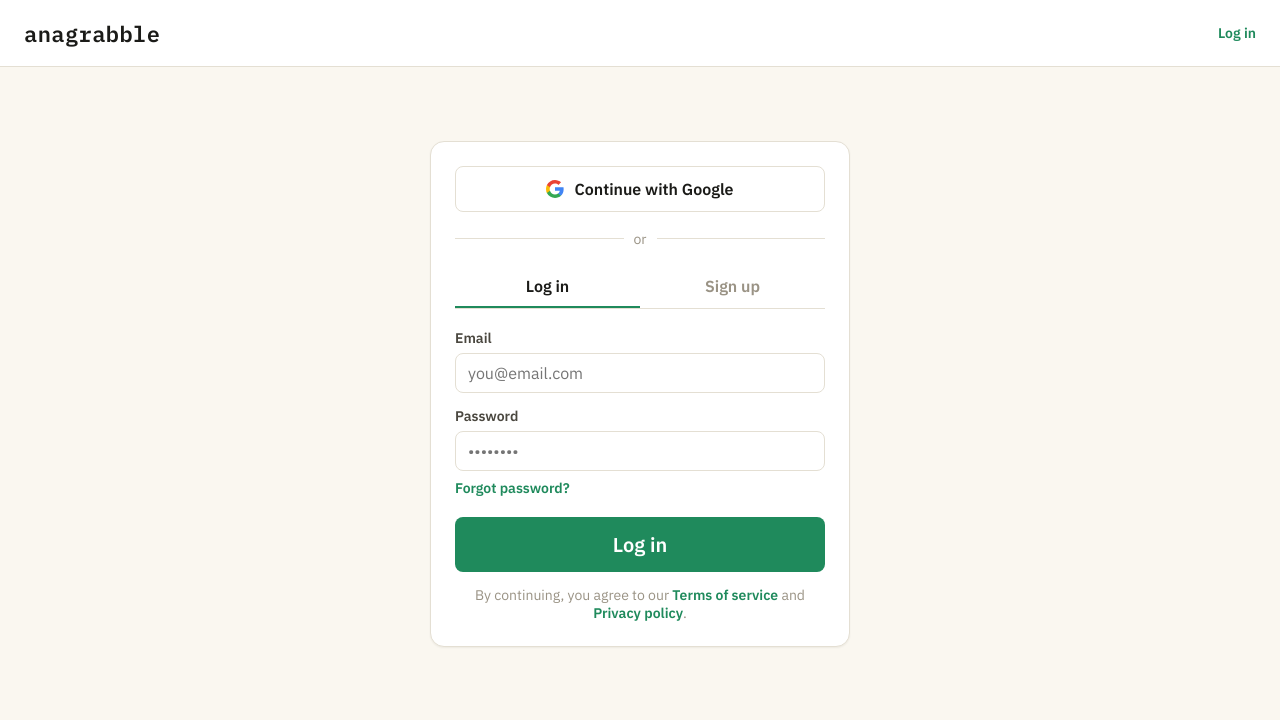
LoginPage › requires email and password before submitting a login, on their own fields
The image size is (1280, 720).
Click the button "Log in": [640, 544] box 455,516 -> 825,572
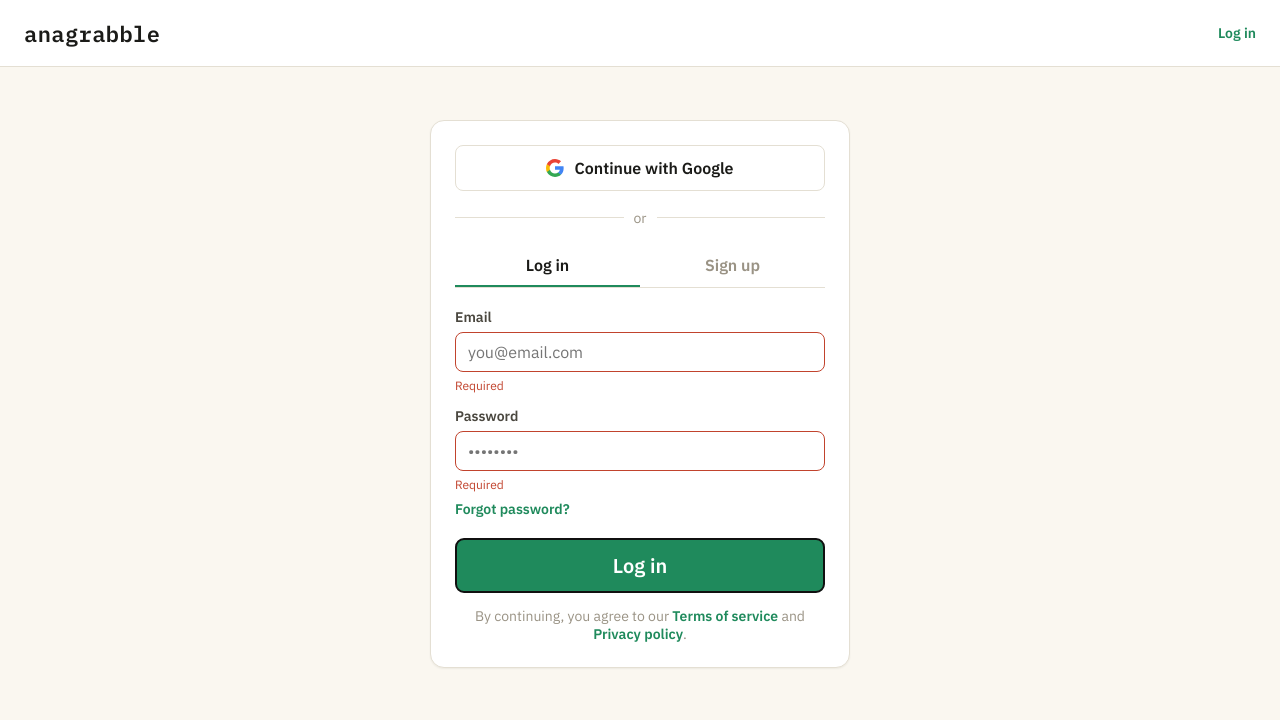
Now the text "Required" is shown 2 times, box 455,378 -> 504,392; 455,476 -> 504,492
